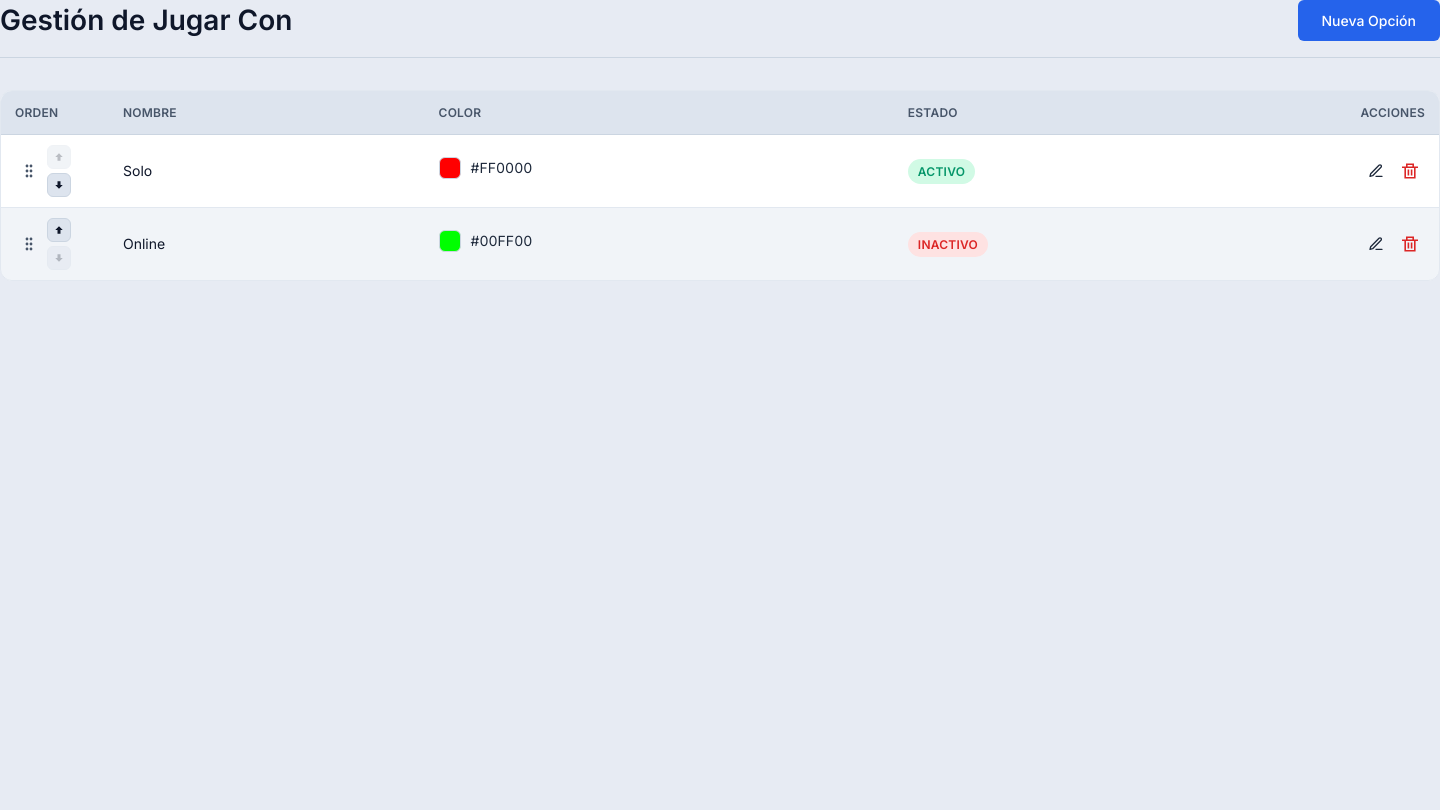
it: AdminPlayWith › opens edit modal with prefilled data
Click the button named "Editar" in the row of "Solo". click: (1376, 171)
box: [1361,156,1391,186]
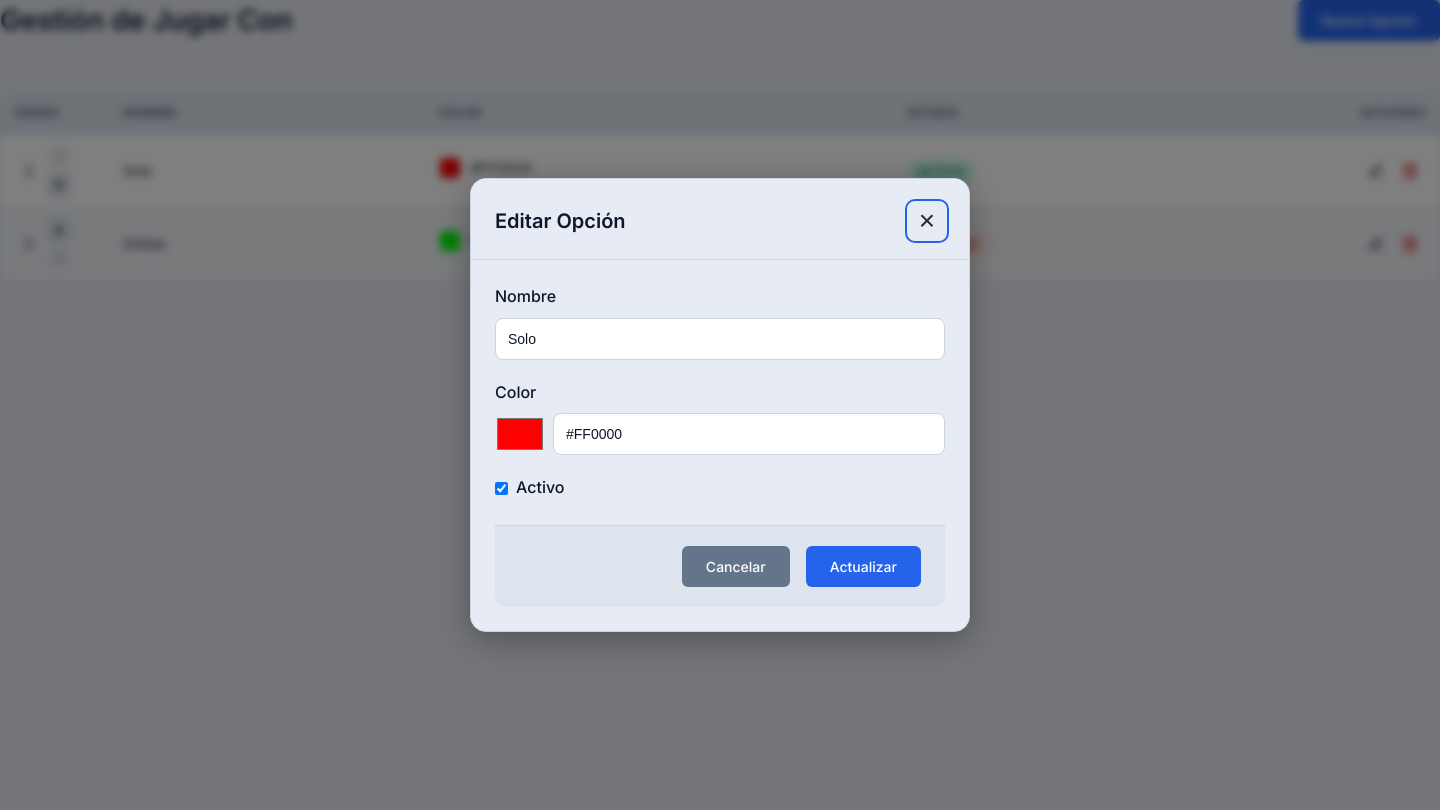
Now the field showing "Solo" is shown, box [495,318,945,360]
